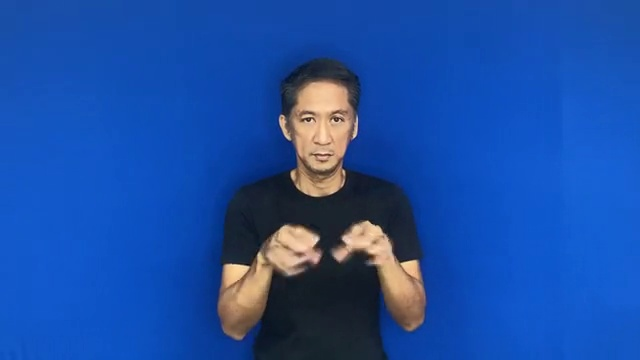egg: (254, 210, 399, 282)
